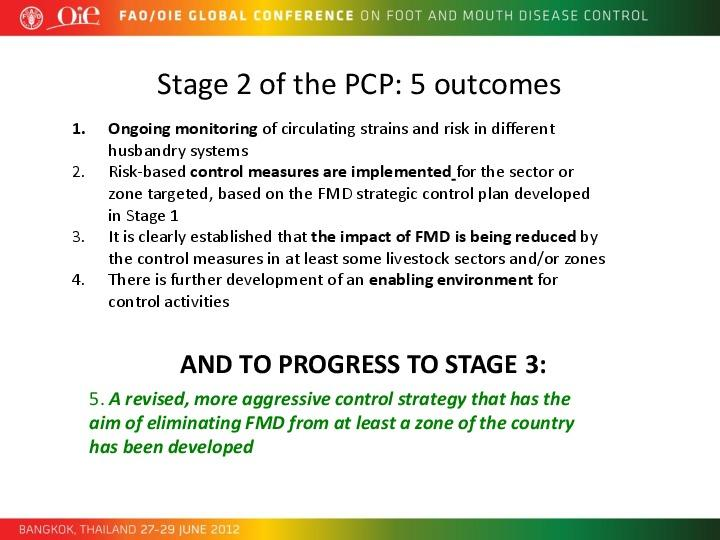paragraph: (50, 98, 624, 329), (57, 378, 611, 476)
subtitle: (147, 62, 575, 108), (175, 345, 559, 386)
title: (112, 4, 655, 33)
